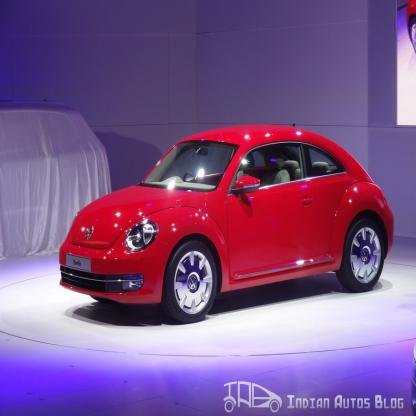Vehicle: (58, 124, 395, 324)
